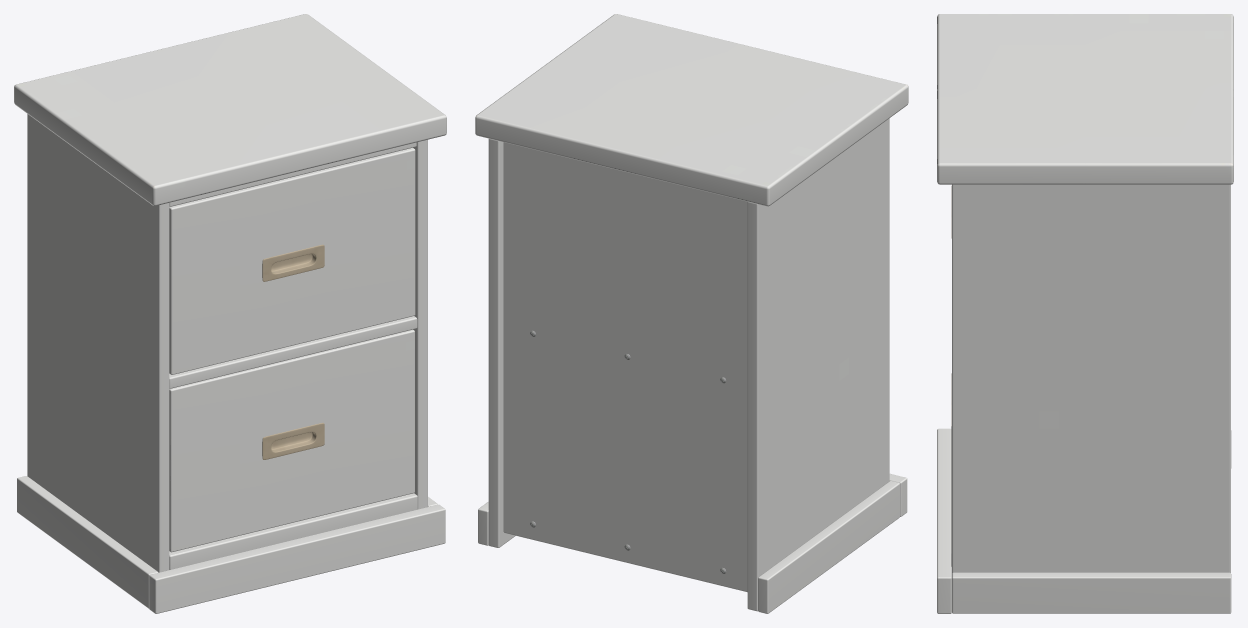
The model's file is abo-B082L28P18.glb.
3 views of the same model, side by side, from view 1: azimuth 30°, elevation 25°; view 2: azimuth 150°, elevation 25°; view 3: azimuth 270°, elevation 25° (orthographic). The views are drawn at different scales.
Bounding box in the file's own units: 0.52 × 0.723 × 0.431.
1 material, 1 textured.
